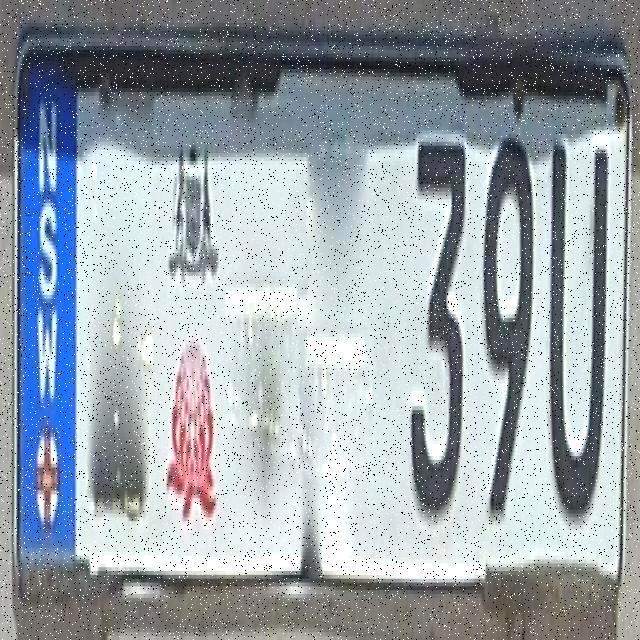LicensePlate: (12, 34, 639, 618)
